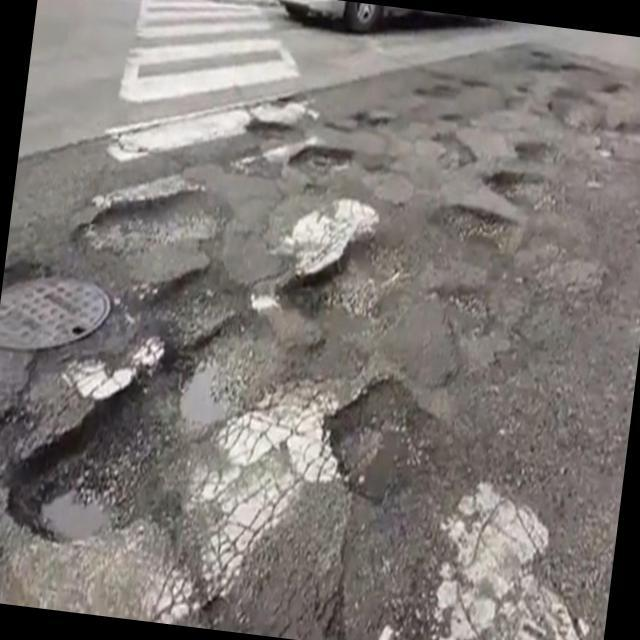Pothole: (0, 279, 307, 587), (303, 355, 456, 511), (55, 158, 232, 270), (288, 203, 429, 339), (431, 182, 531, 264), (539, 83, 640, 146), (484, 157, 576, 220), (505, 124, 589, 184), (421, 116, 490, 189), (281, 128, 360, 176), (244, 109, 326, 155), (344, 99, 415, 147), (546, 47, 619, 89), (408, 72, 468, 114), (484, 84, 543, 125)
